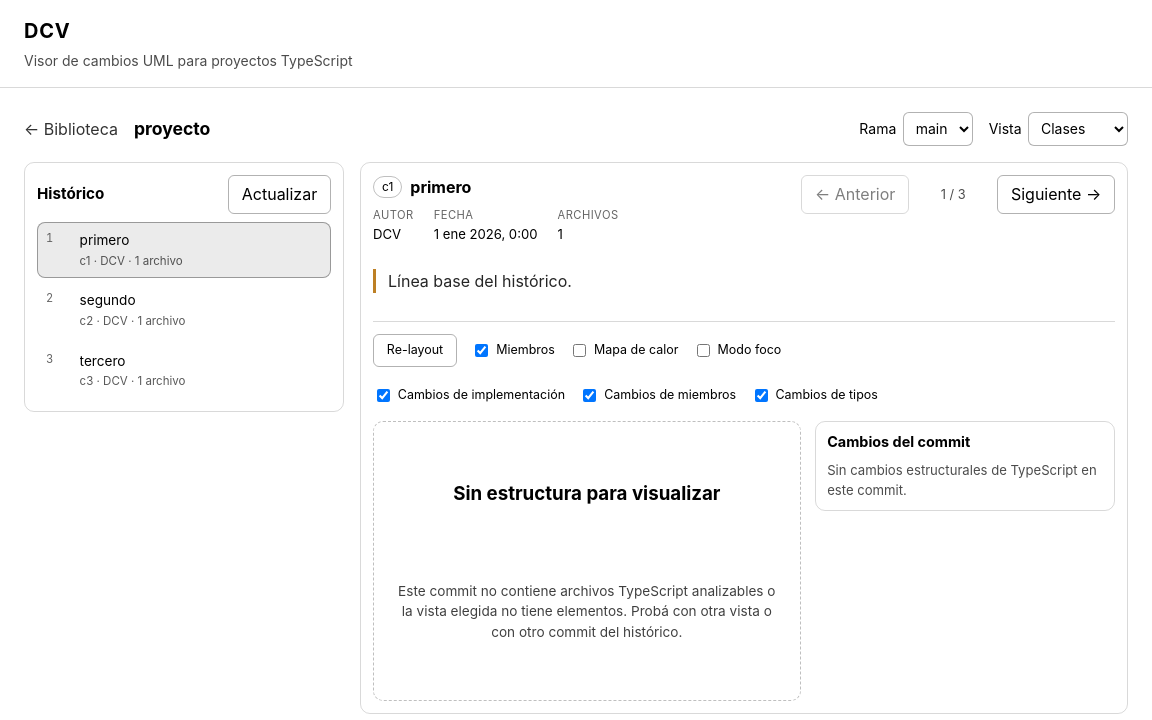
Scenario: CommitPlayer › navega con anterior/siguiente y salta desde el timeline
Expected: the heading "primero" is shown, [410, 175, 471, 199]
Expected: the button "← Anterior" is disabled, [801, 175, 909, 214]
Step 1. Click the button "Siguiente →" → (1056, 194), box [997, 175, 1115, 214]
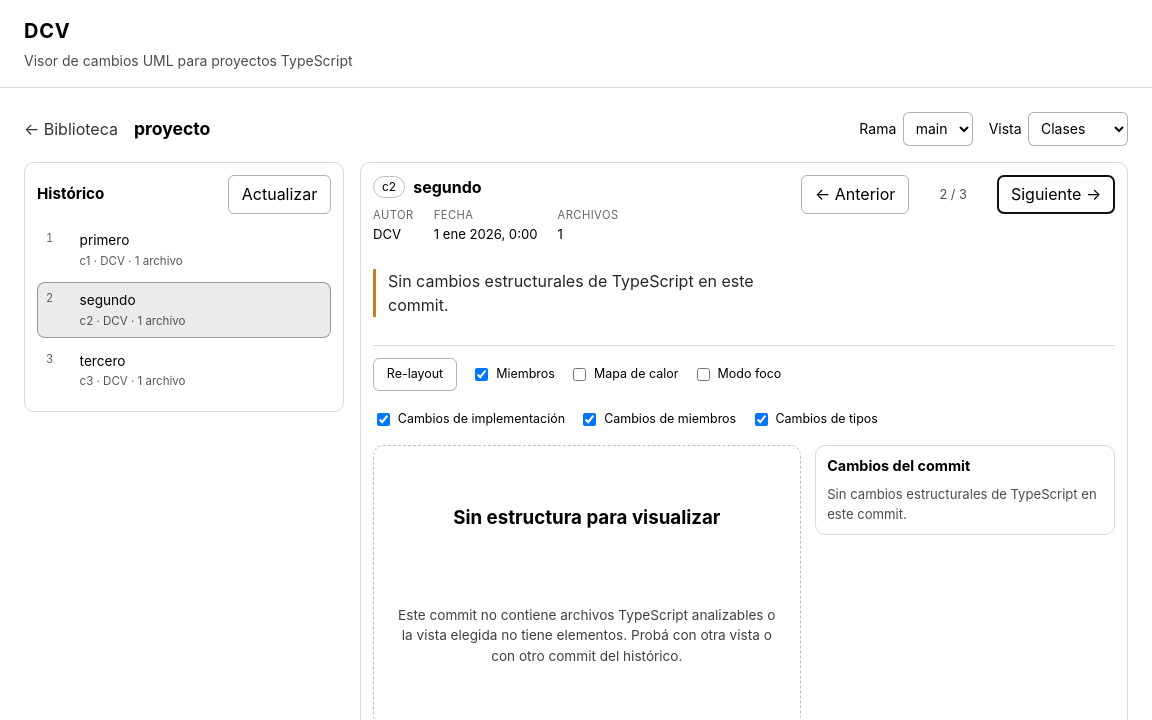
Now the heading "segundo" is shown, box [413, 175, 482, 199]
Step 2. Click the button "3 tercero c3 · DCV · 1 archivo" → (103, 361), box [37, 342, 331, 399]
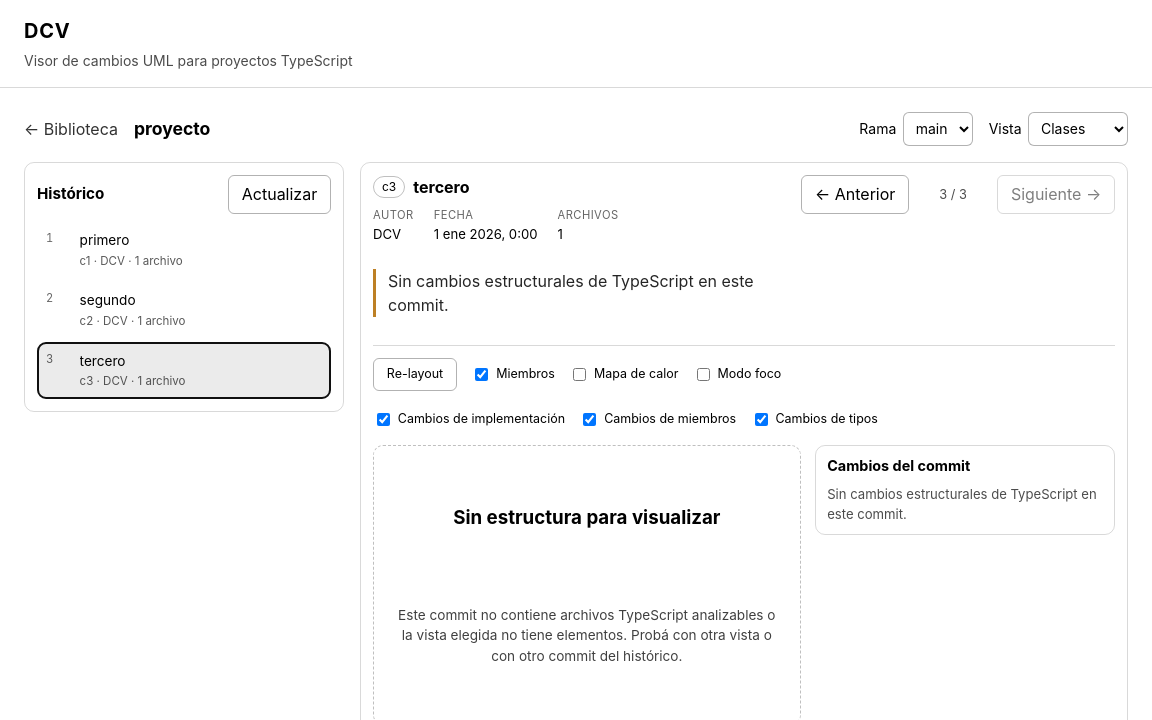
Now the button "← Anterior" is enabled, box [801, 175, 909, 214]
Now the heading "tercero" is shown, box [413, 175, 470, 199]
Now the button "Siguiente →" is disabled, box [997, 175, 1115, 214]
